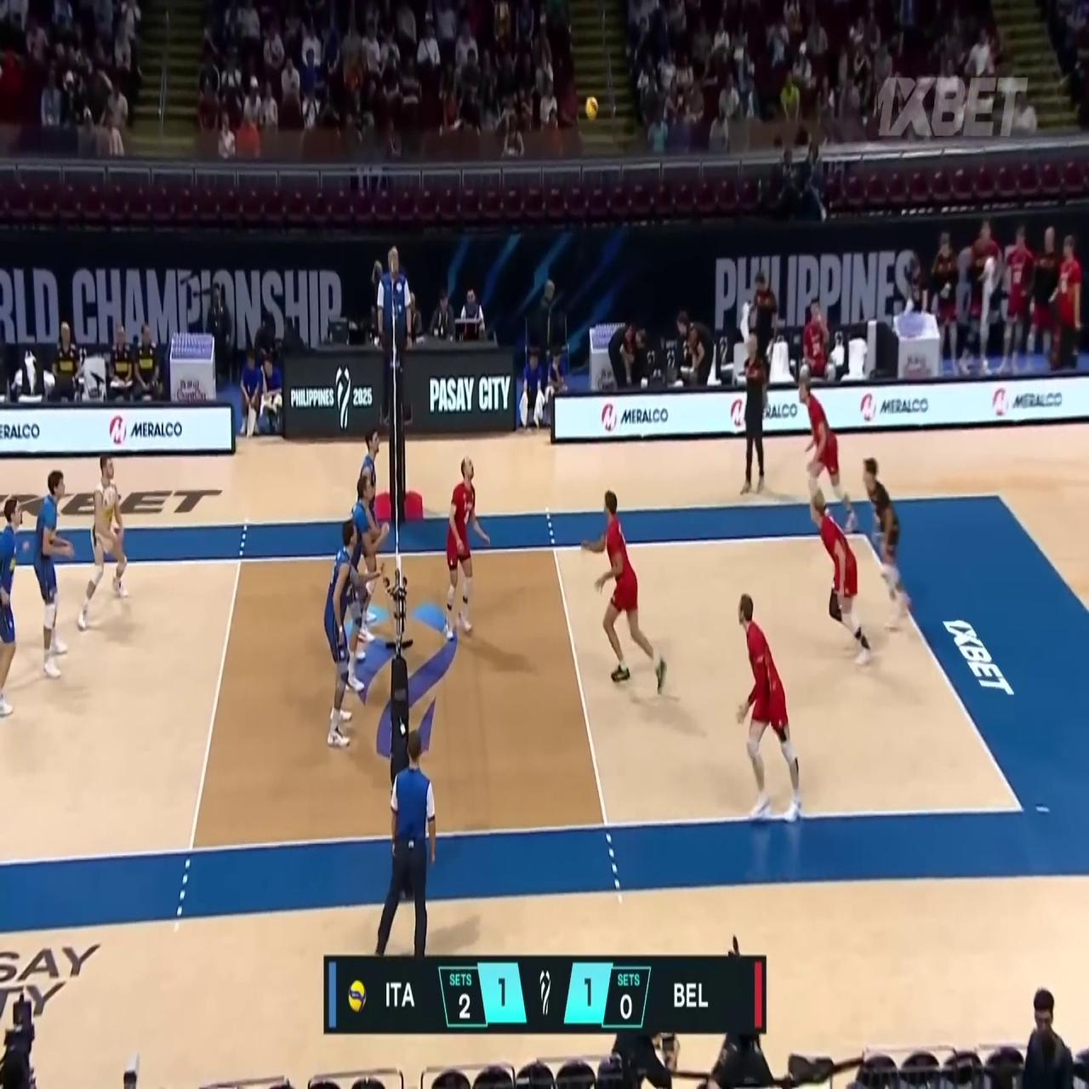ball: (585, 96, 599, 120)
